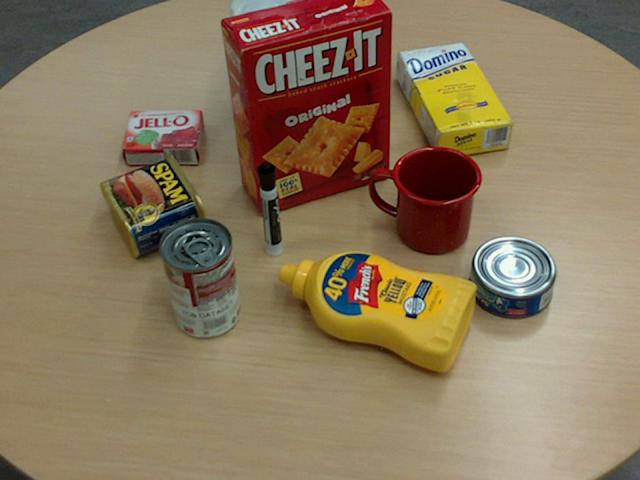cracker_box: (220, 0, 392, 213)
gelatin_box: (119, 109, 203, 164)
large_marker: (255, 162, 283, 257)
master_chef_can: (230, 0, 320, 128)
mug: (370, 144, 482, 253)
mustard_bottle: (277, 251, 476, 370)
potted_meat_can: (100, 152, 208, 256)
sugar_box: (396, 41, 514, 159)
tomato_soup_can: (156, 216, 239, 337)
tuna_fish_can: (469, 235, 557, 317)
